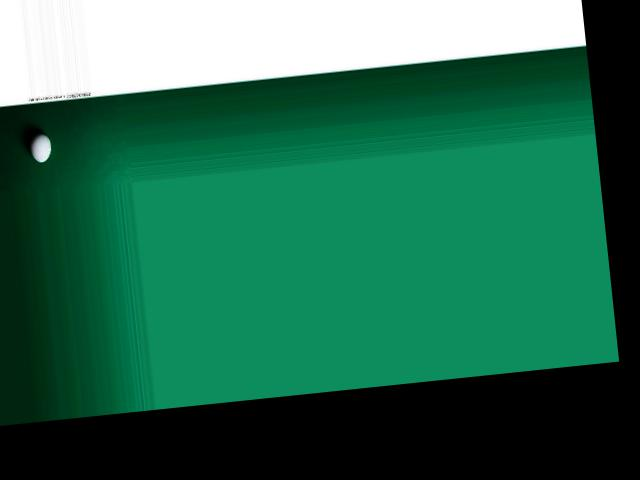egg: (29, 131, 53, 162)
